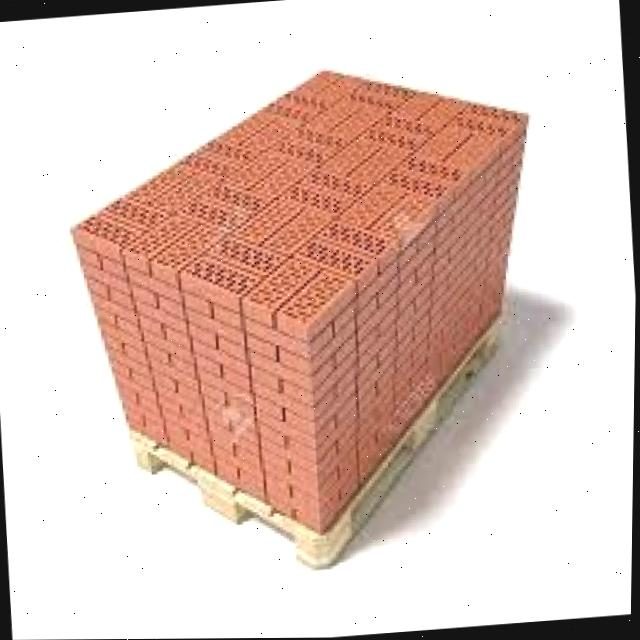bricks: (75, 71, 525, 526)
